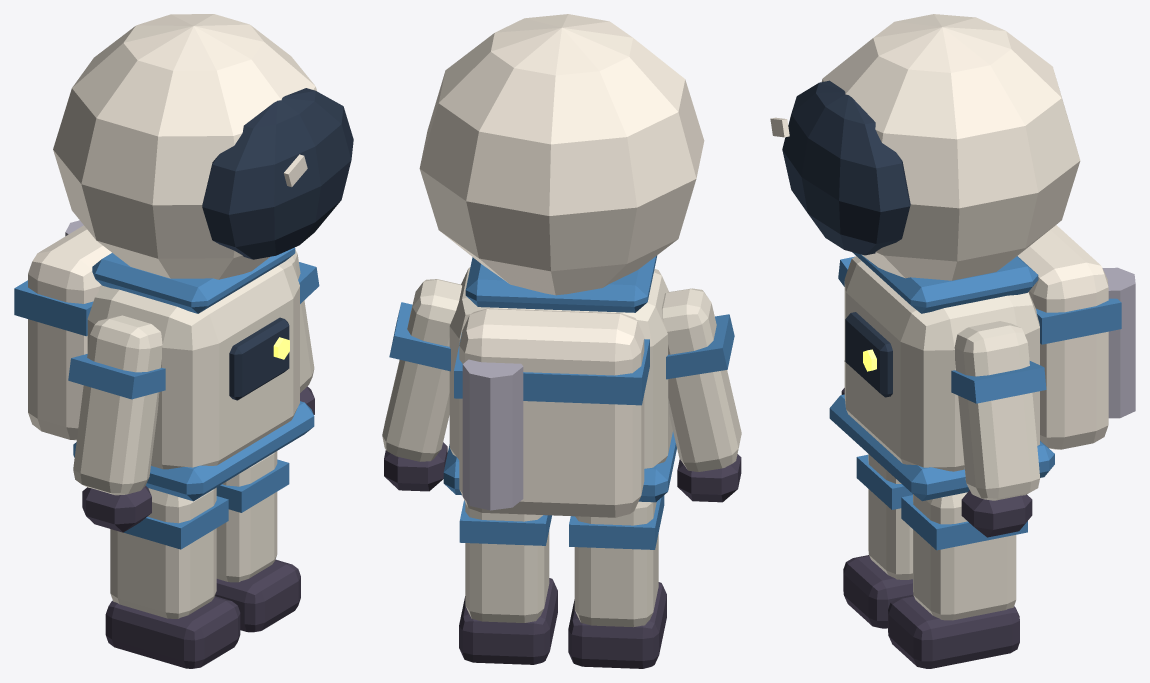
File: MOONSHIFT_CHR_Crew_B.glb
The picture shows the model from 3 angles, left to right: view 1: azimuth 30°, elevation 25°; view 2: azimuth 150°, elevation 25°; view 3: azimuth 270°, elevation 25°; orthographic projection. The views are drawn at different scales.
Parts seen in each view (by area): view 1: CrewB_Helmet, CrewB_Torso, CrewB_Visor, CrewB_Arm_L, CrewB_Backpack, CrewB_Leg_L, CrewB_Boot_L, CrewB_Leg_R, CrewB_Collar, CrewB_Belt, CrewB_Boot_R, CrewB_ChestPad (+7 smaller); view 2: CrewB_Helmet, CrewB_Backpack, CrewB_Arm_L, CrewB_Tank, CrewB_Arm_R, CrewB_Leg_L, CrewB_Leg_R, CrewB_Torso, CrewB_Collar, CrewB_Boot_L, CrewB_Boot_R, CrewB_BackpackStripe (+7 smaller); view 3: CrewB_Helmet, CrewB_Torso, CrewB_Visor, CrewB_Backpack, CrewB_Arm_R, CrewB_Leg_R, CrewB_Boot_R, CrewB_Collar, CrewB_Belt, CrewB_Tank, CrewB_Leg_L, CrewB_Boot_L (+6 smaller).
Part boxes in pixels (x1,y1,x2,y2): CrewB_Helmet: [53, 14, 317, 279]; CrewB_Torso: [87, 260, 299, 469]; CrewB_Visor: [202, 88, 353, 259]; CrewB_Arm_L: [73, 315, 162, 495]; CrewB_Backpack: [28, 225, 111, 440]; CrewB_Leg_L: [110, 487, 216, 618]; CrewB_Boot_L: [105, 596, 240, 668]; CrewB_Leg_R: [216, 451, 277, 582]; CrewB_Collar: [92, 247, 295, 313]; CrewB_Belt: [73, 401, 314, 501]; CrewB_Boot_R: [215, 559, 300, 632]; CrewB_ChestPad: [229, 317, 289, 400]; CrewB_Helmet: [419, 14, 704, 295]; CrewB_Backpack: [459, 308, 644, 517]; CrewB_Arm_L: [661, 288, 741, 471]; CrewB_Tank: [462, 359, 523, 510]; CrewB_Arm_R: [382, 279, 461, 461]; CrewB_Leg_L: [574, 501, 658, 627]; CrewB_Leg_R: [465, 503, 549, 622]; CrewB_Torso: [449, 267, 672, 468]; CrewB_Collar: [465, 255, 657, 312]; CrewB_Boot_L: [568, 582, 666, 668]; CrewB_Boot_R: [459, 578, 557, 664]; CrewB_BackpackStripe: [454, 333, 649, 405]; CrewB_Helmet: [821, 14, 1080, 280]; CrewB_Torso: [844, 256, 1039, 471]; CrewB_Visor: [782, 80, 910, 255]; CrewB_Backpack: [1018, 225, 1108, 449]; CrewB_Arm_R: [954, 321, 1040, 500]; CrewB_Leg_R: [913, 492, 1016, 620]; CrewB_Boot_R: [888, 595, 1019, 668]; CrewB_Collar: [852, 252, 1038, 313]; CrewB_Belt: [829, 394, 1054, 501]; CrewB_Tank: [1102, 267, 1135, 418]; CrewB_Leg_L: [868, 454, 912, 579]; CrewB_Boot_L: [843, 555, 913, 628].
Bounding box in the file's own units: 1.07 × 2.15 × 1.18.
